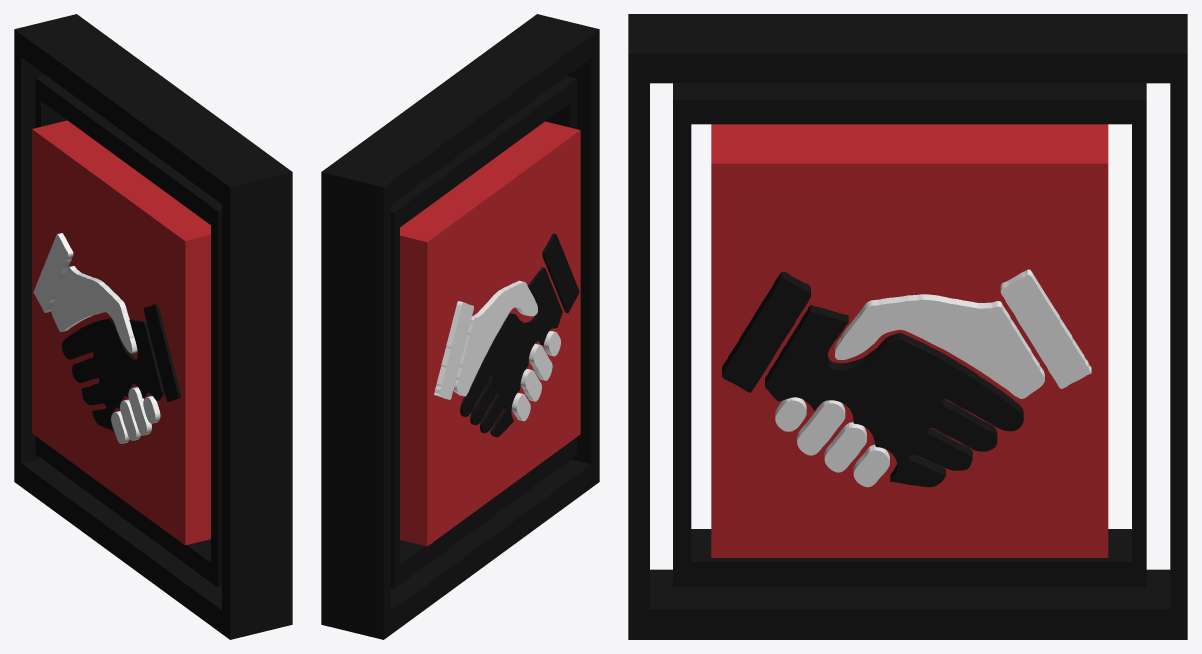
File: offer-model_dark.glb
The picture shows the model from 3 angles, left to right: view 1: azimuth 30°, elevation 25°; view 2: azimuth 150°, elevation 25°; view 3: azimuth 270°, elevation 25°; orthographic projection. The views are drawn at different scales.
Visible parts, largest first — view 1: Cube002, Cube, Cube001, Color_Fill_2, Color_Fill_1; view 2: Cube002, Cube, Cube001, Color_Fill_2, Color_Fill_1; view 3: Cube, Cube002, Cube001, Color_Fill_2001, Color_Fill_1001.
Boxes of the visible parts, bbox=[...] form: Cube002: bbox=[14, 14, 292, 639]; Cube: bbox=[32, 120, 210, 545]; Cube001: bbox=[35, 75, 221, 587]; Color_Fill_2: bbox=[62, 304, 180, 431]; Color_Fill_1: bbox=[33, 233, 160, 443]; Cube002: bbox=[321, 14, 599, 639]; Cube: bbox=[400, 121, 580, 546]; Cube001: bbox=[390, 76, 577, 588]; Color_Fill_2: bbox=[460, 233, 579, 437]; Color_Fill_1: bbox=[434, 280, 560, 421]; Cube: bbox=[711, 124, 1108, 557]; Cube002: bbox=[628, 14, 1187, 639]; Cube001: bbox=[673, 83, 1146, 587]; Color_Fill_2001: bbox=[722, 271, 1023, 487]; Color_Fill_1001: bbox=[775, 269, 1091, 487].
Bounding box in the file's own units: 0.5733 × 2.17 × 1.88.
